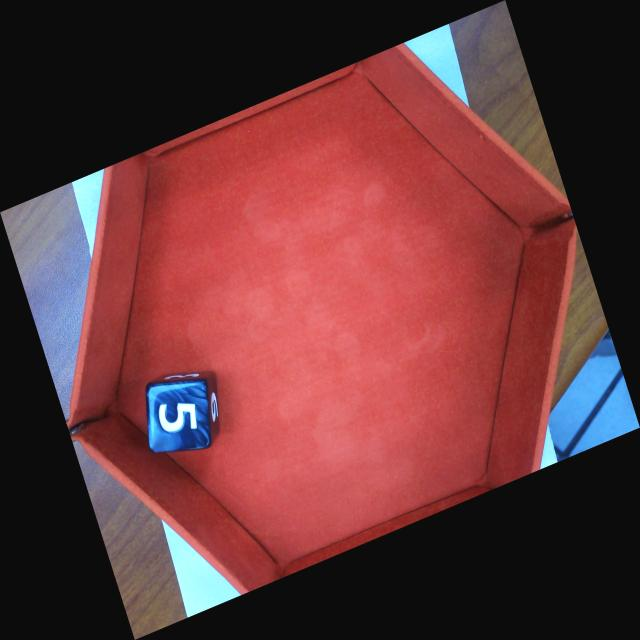dice: (144, 378, 212, 454)
